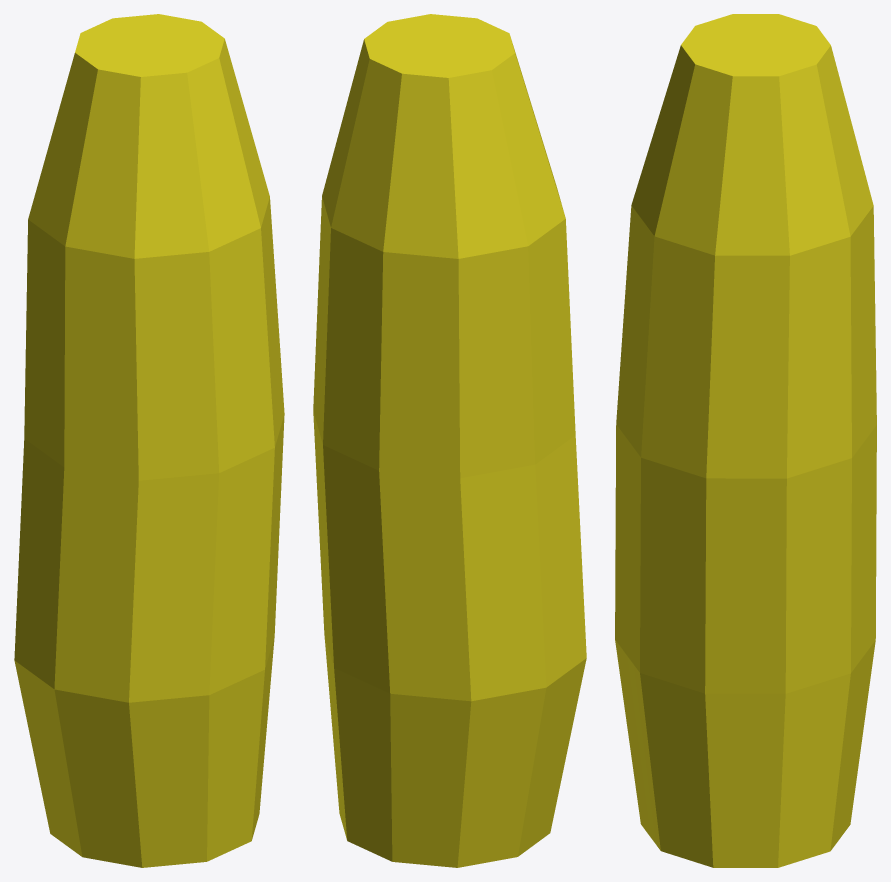
File: fruit_cob.glb
3 renders of one model, left to right at view 1: azimuth 30°, elevation 25°; view 2: azimuth 150°, elevation 25°; view 3: azimuth 270°, elevation 25°, orthographic.
Visible parts, largest first — view 1: cob; view 2: cob; view 3: cob.
Part boxes in pixels (box(x1,y1,x2,y2)): cob: box(14, 14, 284, 867); cob: box(313, 14, 586, 867); cob: box(615, 14, 876, 867).
Bounding box in the file's own units: 0.0342 × 0.1098 × 0.0334.
